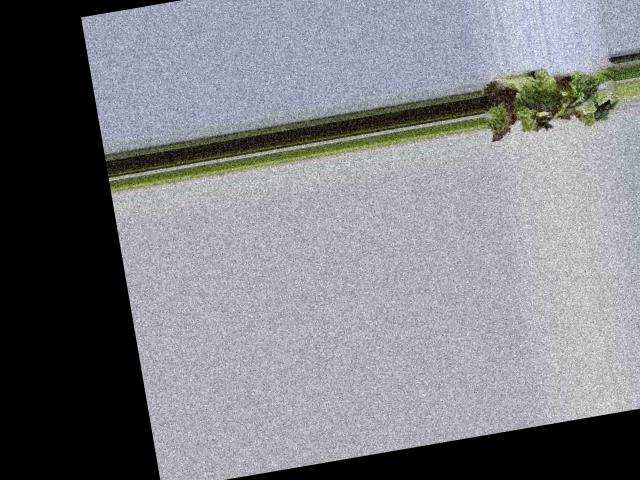lettuce: (484, 66, 614, 136)
